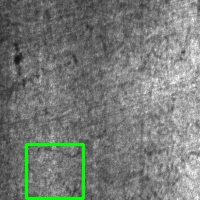crazing: (26, 144, 83, 198)
